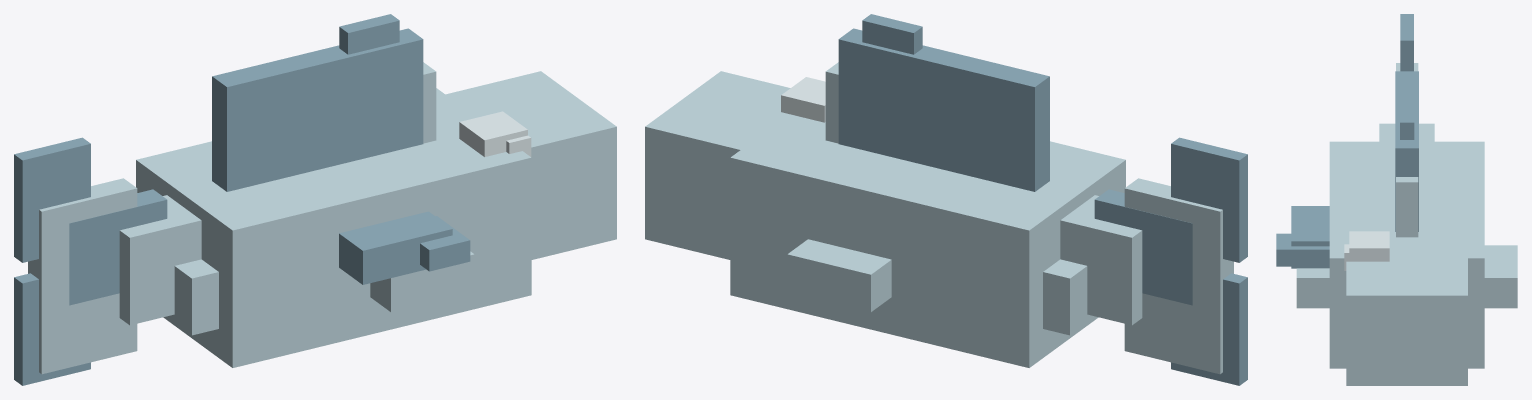
The model's file is fish_brine_goby.glb.
3 renders of one model, left to right at view 1: azimuth 30°, elevation 25°; view 2: azimuth 150°, elevation 25°; view 3: azimuth 270°, elevation 25°, orthographic. The views are drawn at different scales.
Parts seen in each view (by area): view 1: FishArt_body, FishArt_dorsal, FishArt_tail, FishArt_pectoral, FishArt_eye; view 2: FishArt_body, FishArt_dorsal, FishArt_tail, FishArt_eye; view 3: FishArt_body, FishArt_pectoral, FishArt_dorsal, FishArt_eye, FishArt_tail.
Boxes of the visible parts, <box> form: FishArt_body: <box>28,62,616,374</box>; FishArt_dorsal: <box>212,14,423,191</box>; FishArt_tail: <box>14,137,167,385</box>; FishArt_pectoral: <box>339,211,470,284</box>; FishArt_eye: <box>459,111,531,156</box>; FishArt_body: <box>645,62,1233,374</box>; FishArt_dorsal: <box>838,14,1049,191</box>; FishArt_tail: <box>1094,137,1247,385</box>; FishArt_eye: <box>781,77,825,122</box>; FishArt_body: <box>1296,63,1517,385</box>; FishArt_pectoral: <box>1276,206,1329,268</box>; FishArt_dorsal: <box>1395,71,1418,231</box>; FishArt_eye: <box>1344,231,1389,270</box>; FishArt_tail: <box>1400,14,1413,71</box>.
Bounding box in the file's own units: 0.3091 × 0.1442 × 0.1439.
